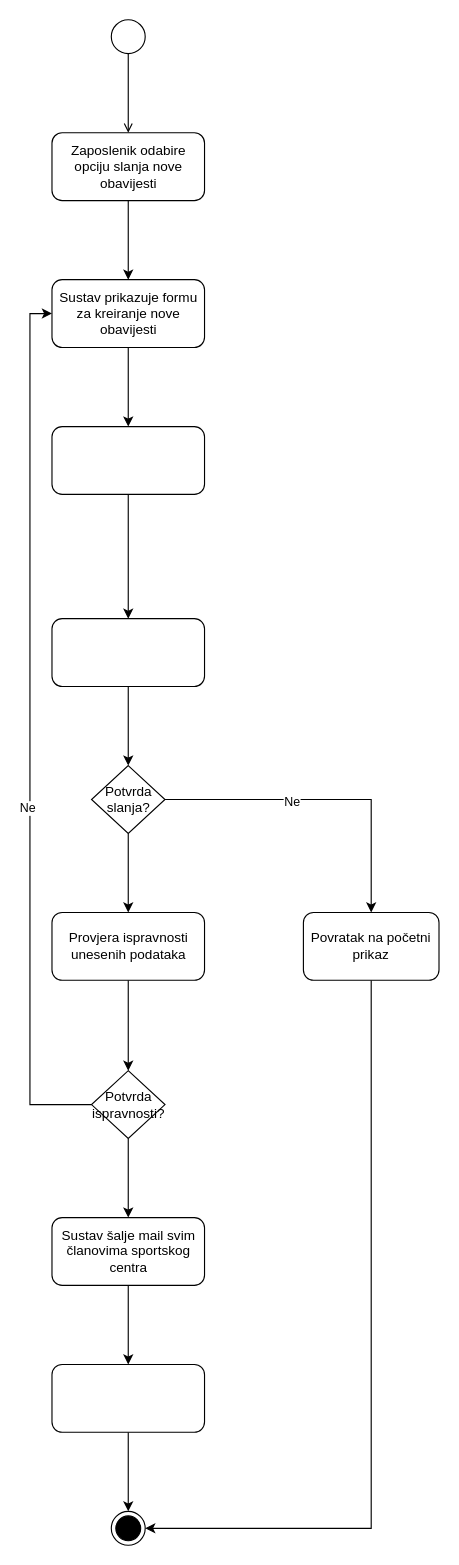
The diagram is 459 pixels wide and 1565 high, and some of its shapes have lost their labels. Each missing label, with the centre of its shape:
"Potvrda slanja obavijesti" goes at pixel 128 652.
"Sustav prikazuje poruku o uspješno poslanoj obavijesti" goes at pixel 128 1397.
"Zaposlenik ispunjava formu" goes at pixel 128 459.
